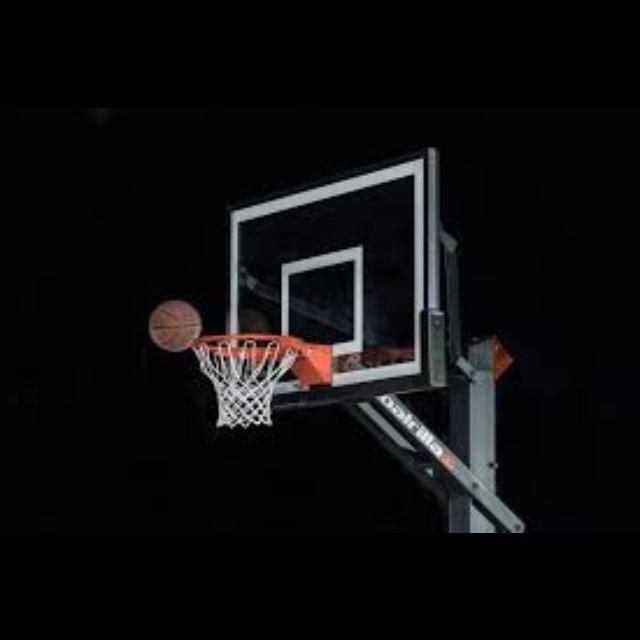basketball: (147, 299, 201, 351)
rim: (191, 334, 295, 426)
